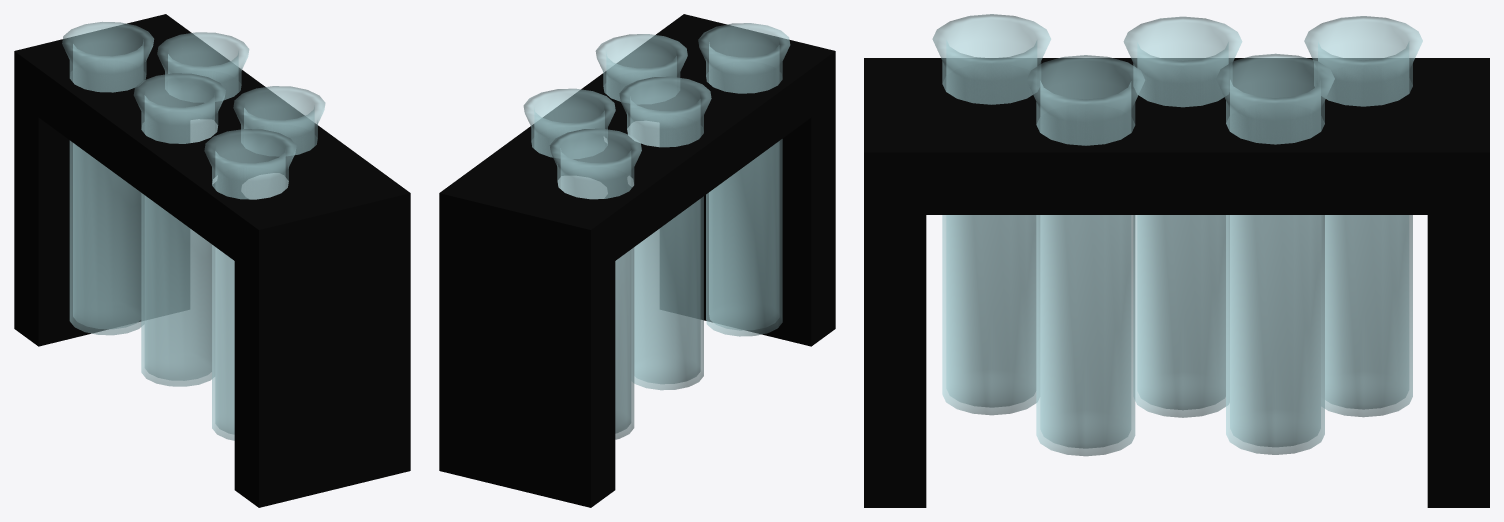
Rendered from tubeholder1.glb.
3 views of the same model, side by side, from view 1: azimuth 30°, elevation 25°; view 2: azimuth 150°, elevation 25°; view 3: azimuth 270°, elevation 25° (orthographic). The views are drawn at different scales.
Parts seen in each view (by area): view 1: tube holder; view 2: tube holder; view 3: tube holder.
Boxes of the visible parts, x1=… form: tube holder: x1=14, y1=14, x2=410, y2=507; tube holder: x1=439, y1=14, x2=835, y2=507; tube holder: x1=864, y1=14, x2=1489, y2=507.
Bounding box in the file's own units: 1.14 × 2.25 × 3.19.
